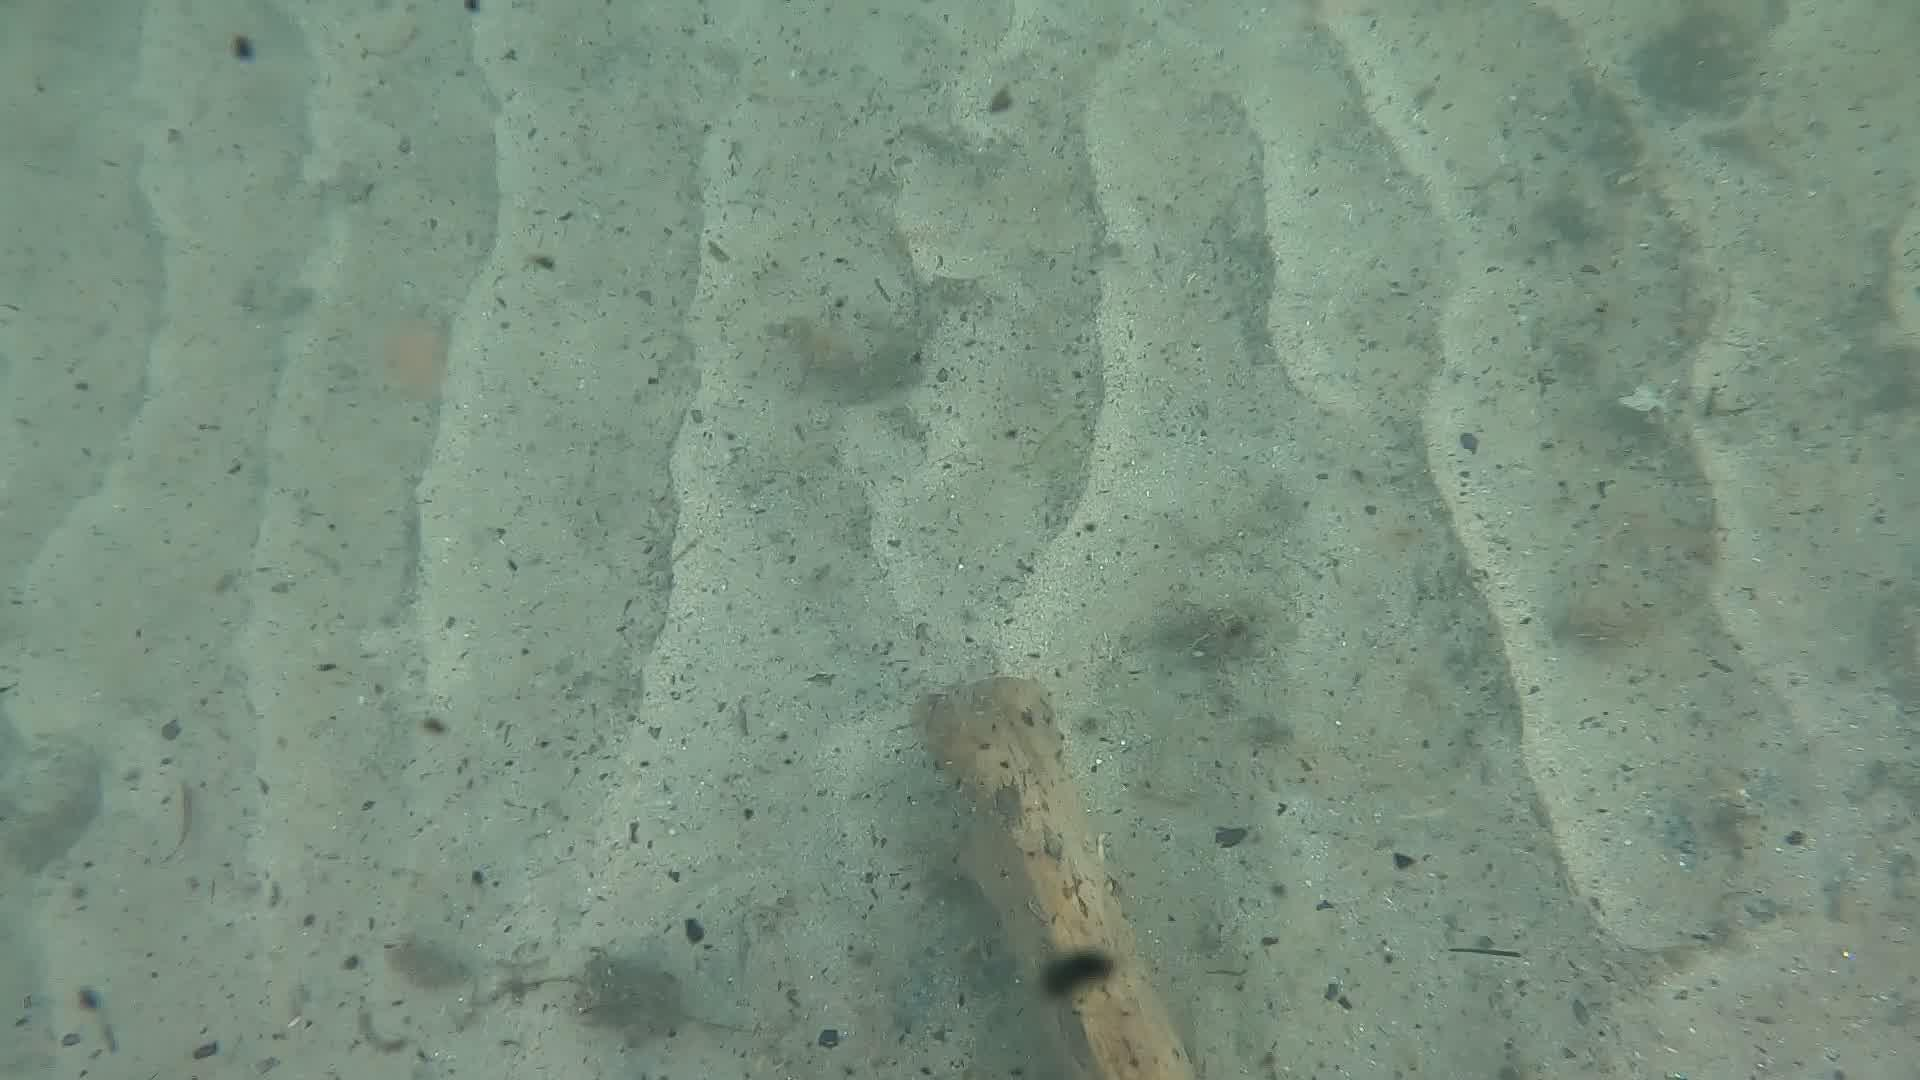wood: (916, 669, 1212, 1080)
